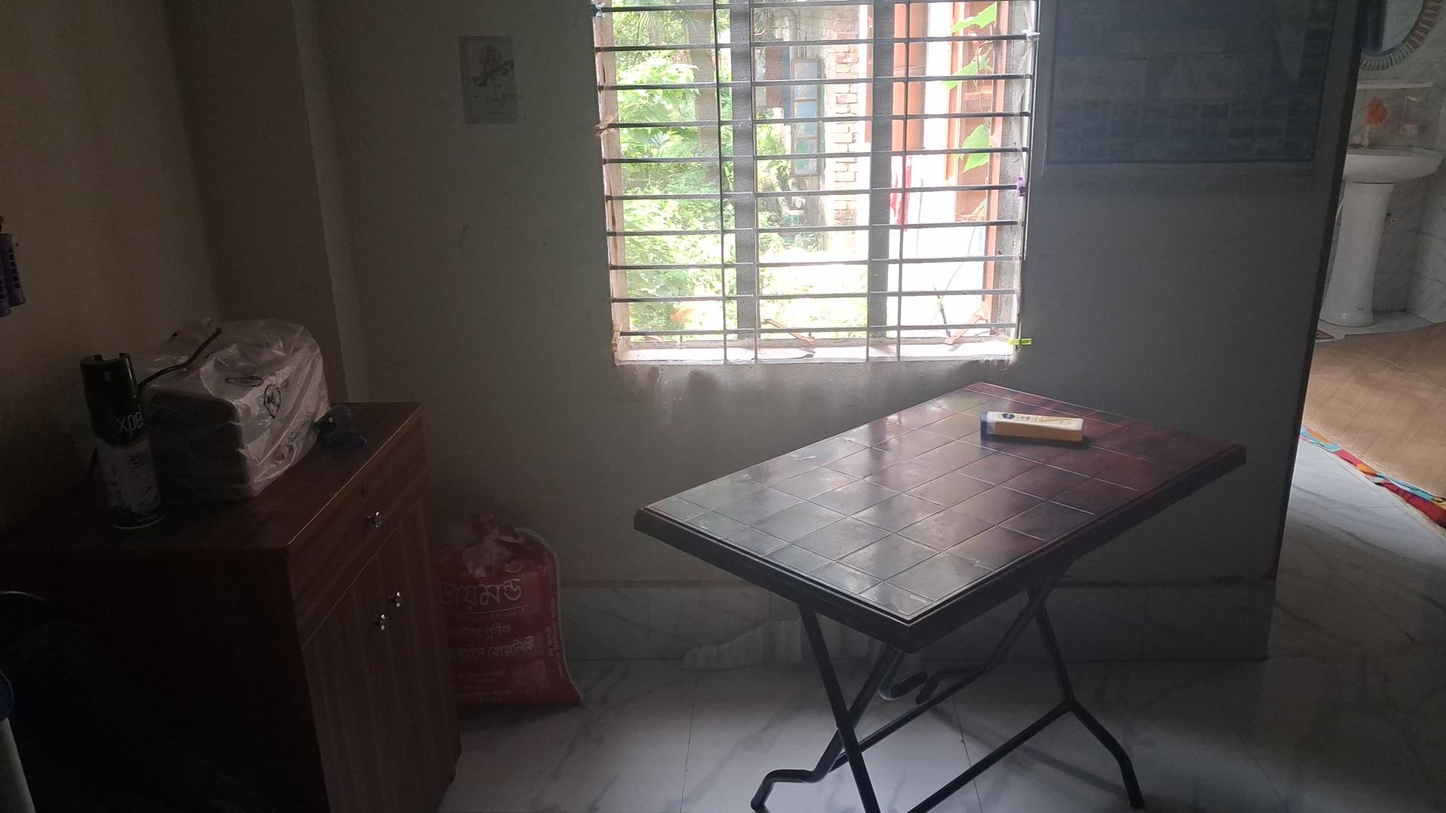Bag: (440, 519, 592, 714)
Bottle: (79, 362, 150, 521), (977, 410, 1087, 443)
Photo: (464, 39, 520, 119)
Table: (640, 387, 1252, 813)
Window: (588, 8, 1036, 382)
